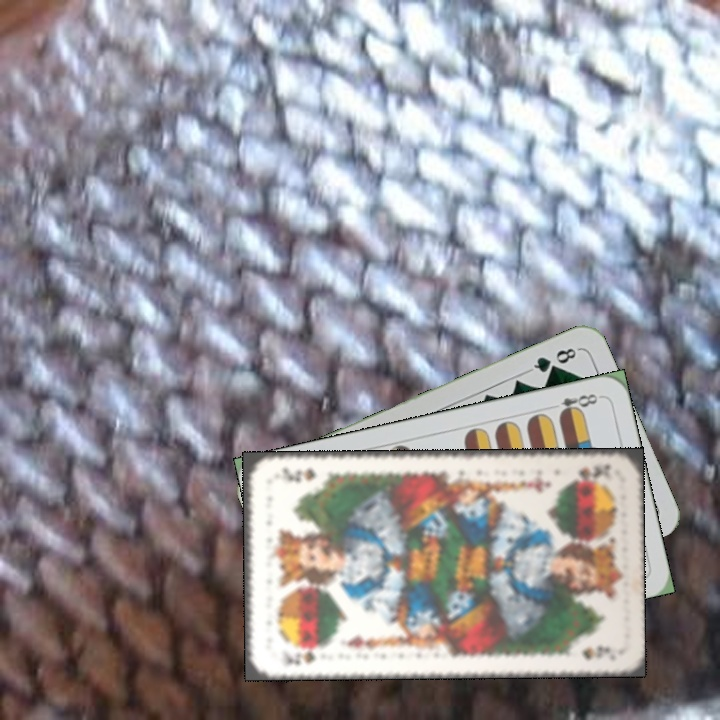E8: (545, 389, 603, 419)
G8: (526, 344, 582, 375)
SK: (566, 459, 614, 483), (281, 644, 329, 668)
